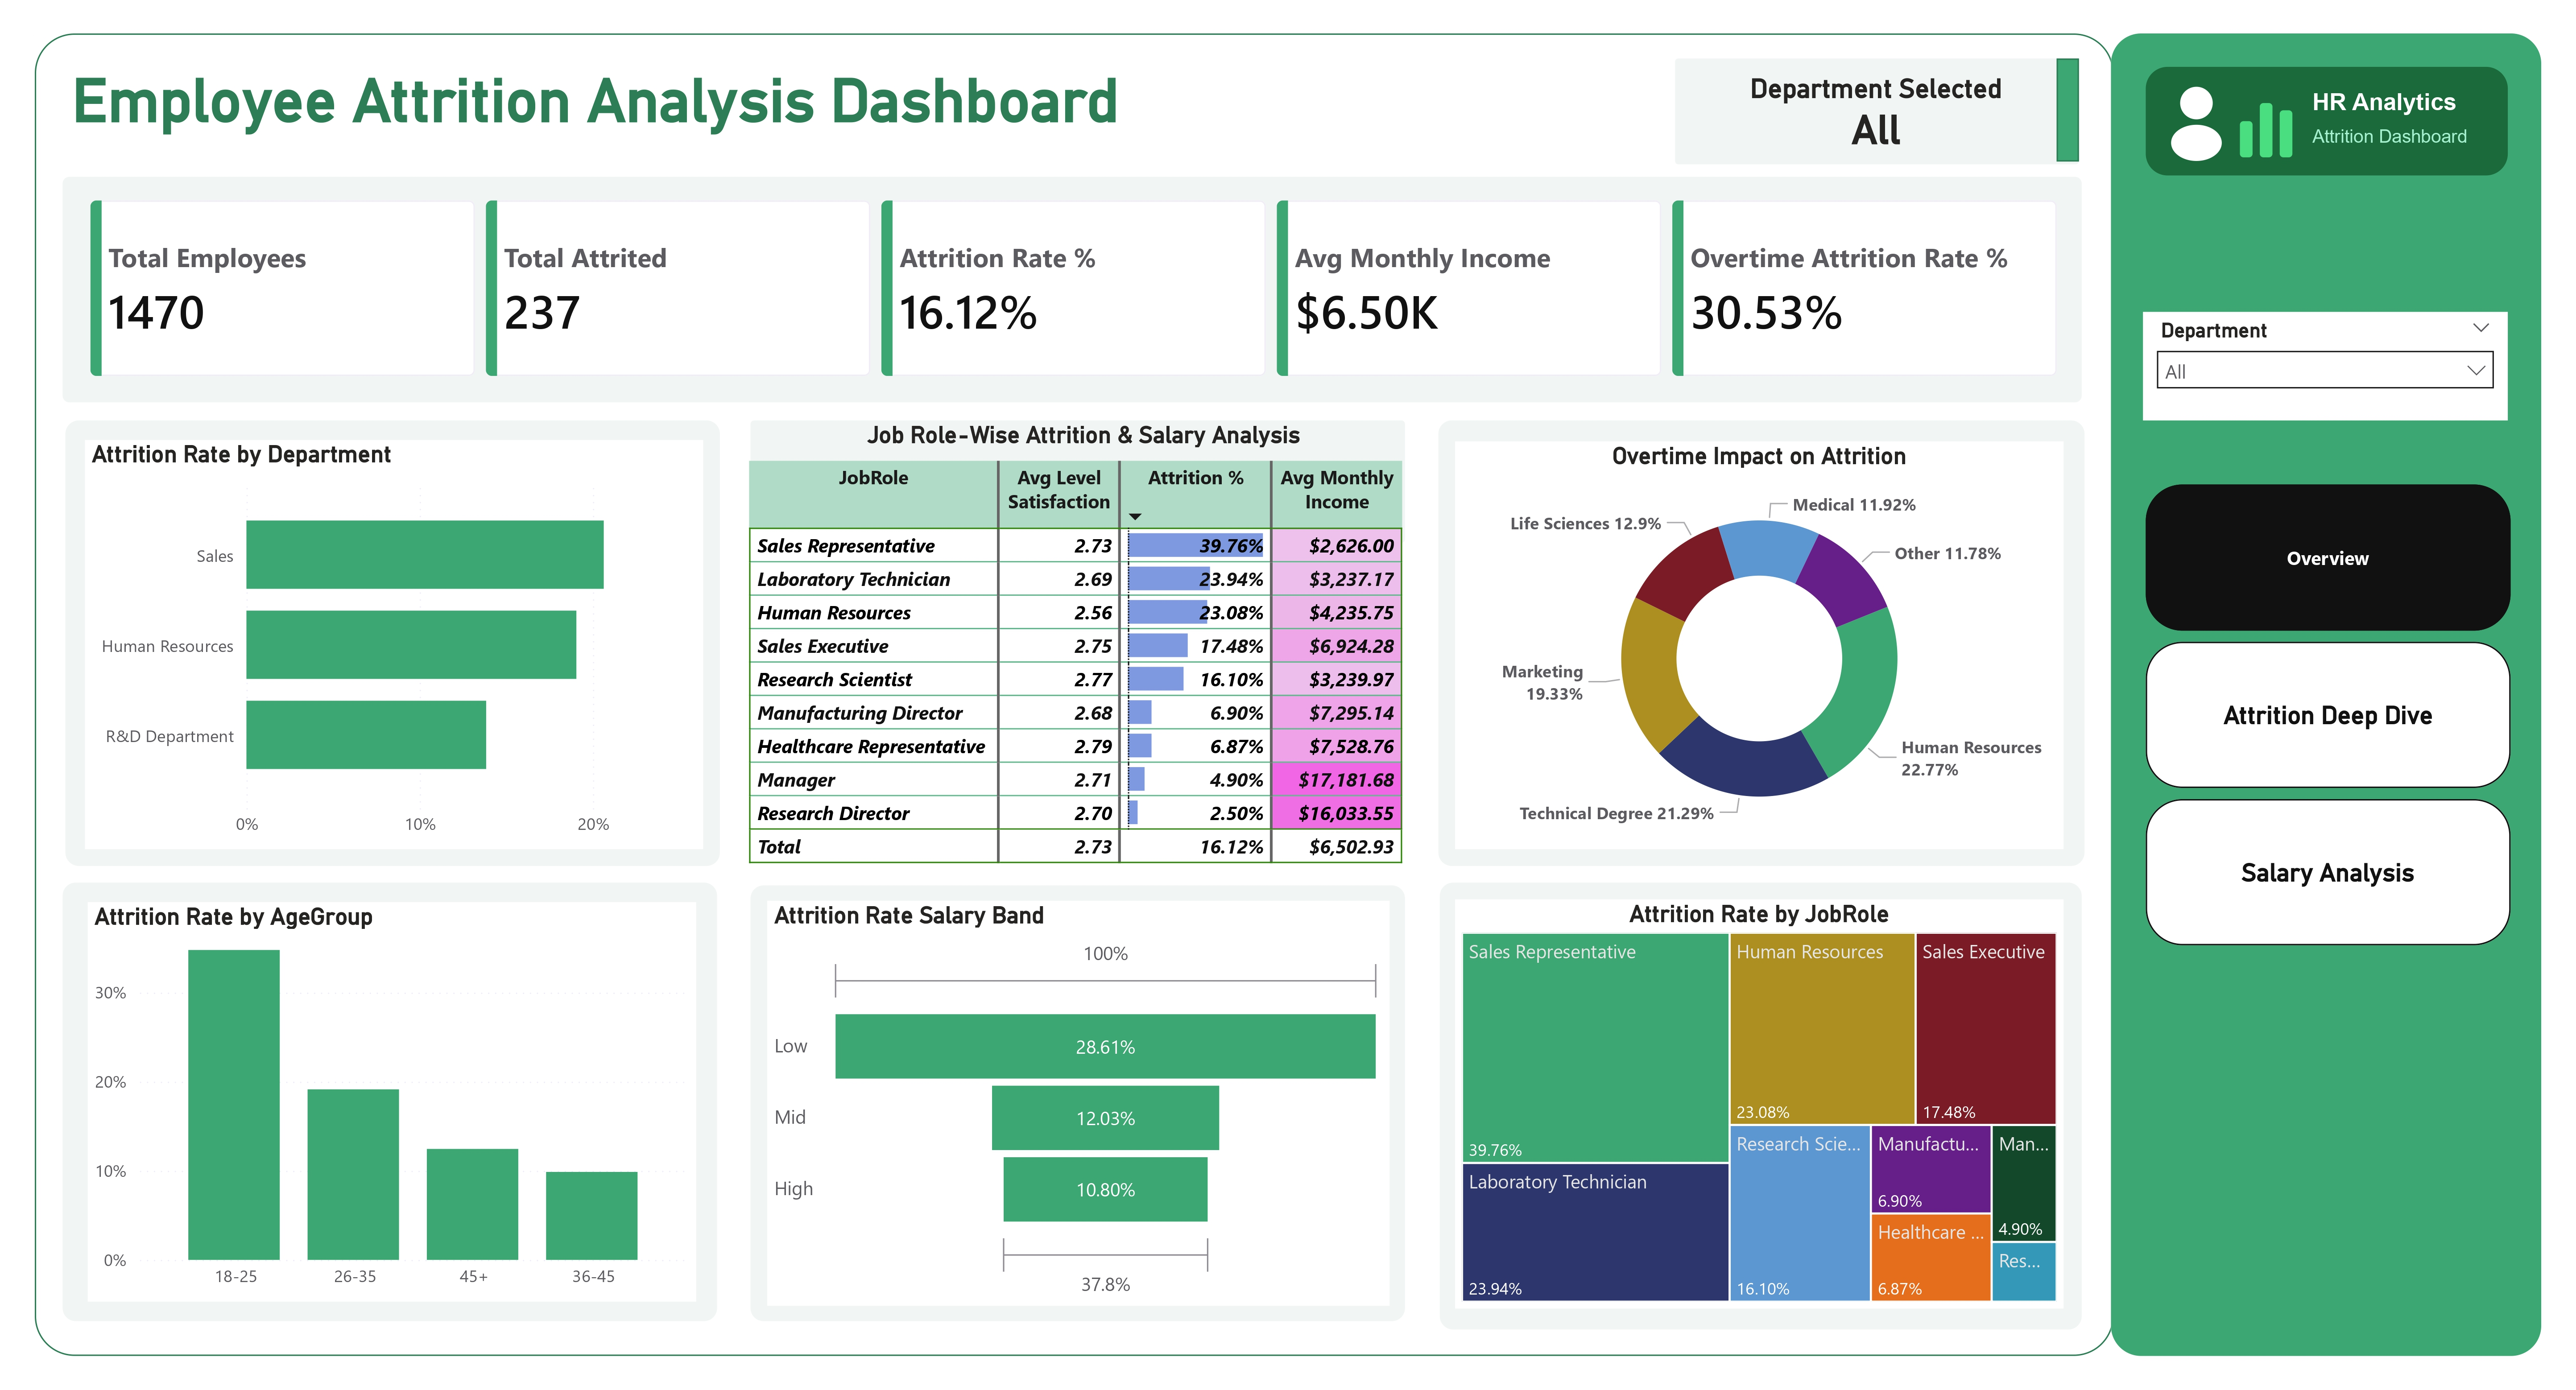

Layout of this report page (visuals, bound fields, positions):
{"tool":"powerbi","page":{"name":"Overview","canvas":[1800,950],"ordinal":0},"visuals":[{"type":"shape","box":[20,610,470,315],"z":0},{"type":"shape","box":[0,0,1492.5,950],"z":1000},{"type":"shape","box":[1178,18,290,76],"z":2000},{"type":"shape","box":[514,278,470,88],"z":3000},{"type":"shape","box":[1008.6,610,461.4,321.4],"z":4000},{"type":"shape","box":[1008.3,278.3,463.3,320],"z":5000},{"type":"shape","box":[1491.4,0,308.6,950],"z":6000},{"type":"slicer","fields":{"Values":["Department.Department"]},"box":[1514,200,262,78],"z":7000},{"type":"shape","box":[20,103.3,1450,161.7],"z":8000},{"type":"cardVisual","fields":{"Data":["Mesures Table.Total Employees","Mesures Table.Total Attrited","Mesures Table.Attrition Rate %","Mesures Table.Avg Monthly Income","Mesures Table.Overtime Attrition Rate %"]},"box":[23.3,103.3,1450,160],"z":9000},{"type":"shape","box":[22,278,470,320],"z":10000},{"type":"clusteredBarChart","title":"Attrition Rate by Department","fields":{"Category":["Department.Department"],"Y":["Mesures_Table.Attrition Rate %"]},"box":[36,292,444,294],"z":11000},{"type":"clusteredColumnChart","title":"Attrition Rate by AgeGroup","fields":{"Category":["AgeGroup.AgeGroup"],"Y":["Mesures_Table.Attrition Rate %"]},"box":[37.5,623.8,437.5,287.5],"z":12000},{"type":"shape","box":[514,612,470,313],"z":13000},{"type":"funnel","title":"Attrition Rate Salary Band","fields":{"Category":["hr_cleaned.SalaryBand"],"Y":["Mesures Table.Attrition Rate %"]},"box":[525.7,622.9,447.1,291.4],"z":14000},{"type":"donutChart","title":"Overtime Impact on Attrition","fields":{"Y":["Mesures_Table.Attrition Rate %"],"Category":["Education.EducationField"]},"box":[1020,292.9,437.1,292.9],"z":15000},{"type":"tableEx","title":"Job Role-Wise Attrition & Salary Analysis","fields":{"Values":["Jobrole.JobRole","Mesures Table.Avg Satisfaction Level","Mesures Table.Attrition Rate %","Mesures Table.Avg Monthly Income"]},"box":[506.7,278.3,493.3,331.7],"z":16000},{"type":"treemap","title":"Attrition Rate by JobRole","fields":{"Values":["Mesures Table.Attrition Rate %"],"Group":["Employees.JobRole"]},"box":[1020,622.2,436.7,293.3],"z":17000},{"type":"pageNavigator","title":"Page Navigator","box":[1516,324,262,332],"z":18000},{"type":"textbox","box":[21.7,18.3,878.3,73.3],"z":19000},{"type":"card","title":"Department Selected ","fields":{"Values":["Mesures Table.Department"]},"box":[1200,27.5,245,60],"z":20000},{"type":"shape","box":[1452.3,17.7,15.4,73.8],"z":21000},{"type":"image","box":[1515.7,0,260.2,126.1],"z":23000}]}

Visuals, with their boxes on the page's 1800x950 design canvas (x1, y1, x2, y2). These are canvas units, not pixel positions in the 2576x1390 screenshot, which may show the page scaled, cropped or inside an application window:
shape: x1=20, y1=610, x2=490, y2=925
shape: x1=0, y1=0, x2=1492, y2=950
shape: x1=1178, y1=18, x2=1468, y2=94
shape: x1=514, y1=278, x2=984, y2=366
shape: x1=1009, y1=610, x2=1470, y2=931
shape: x1=1008, y1=278, x2=1472, y2=598
shape: x1=1491, y1=0, x2=1800, y2=950
slicer - Department.Department: x1=1514, y1=200, x2=1776, y2=278
shape: x1=20, y1=103, x2=1470, y2=265
cardVisual - Mesures Table.Total Employees x Mesures Table.Total Attrited: x1=23, y1=103, x2=1473, y2=263
shape: x1=22, y1=278, x2=492, y2=598
"Attrition Rate by Department" clusteredBarChart: x1=36, y1=292, x2=480, y2=586
"Attrition Rate by AgeGroup" clusteredColumnChart: x1=38, y1=624, x2=475, y2=911
shape: x1=514, y1=612, x2=984, y2=925
"Attrition Rate Salary Band" funnel: x1=526, y1=623, x2=973, y2=914
"Overtime Impact on Attrition" donutChart: x1=1020, y1=293, x2=1457, y2=586
"Job Role-Wise Attrition & Salary Analysis" tableEx: x1=507, y1=278, x2=1000, y2=610
"Attrition Rate by JobRole" treemap: x1=1020, y1=622, x2=1457, y2=916
"Page Navigator" pageNavigator: x1=1516, y1=324, x2=1778, y2=656
textbox: x1=22, y1=18, x2=900, y2=92
"Department Selected " card: x1=1200, y1=28, x2=1445, y2=88
shape: x1=1452, y1=18, x2=1468, y2=92
image: x1=1516, y1=0, x2=1776, y2=126
